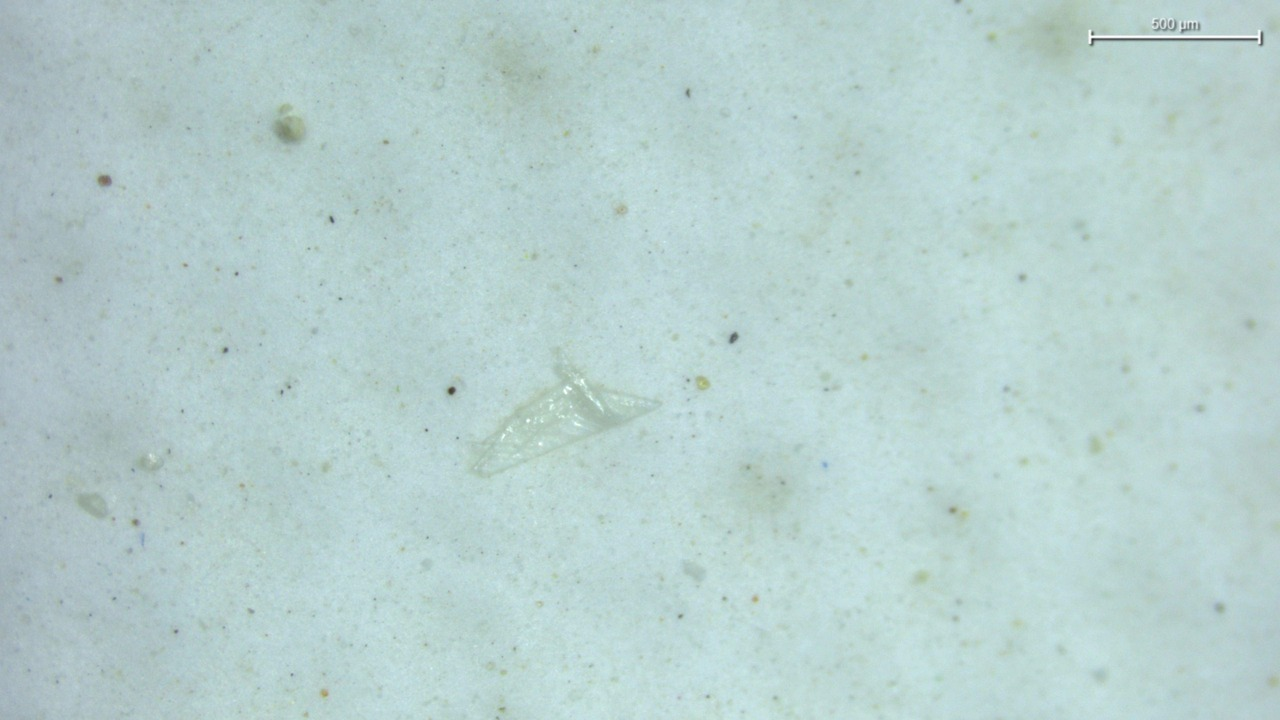microplastic_fragment: (472, 361, 660, 475)
